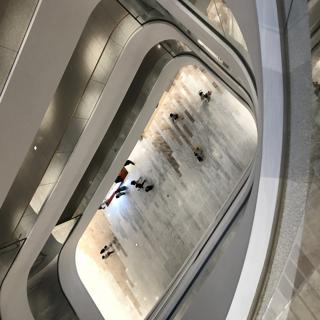person: (189, 141, 210, 166), (166, 110, 185, 130), (195, 89, 218, 104), (130, 177, 149, 188), (143, 183, 159, 194)
